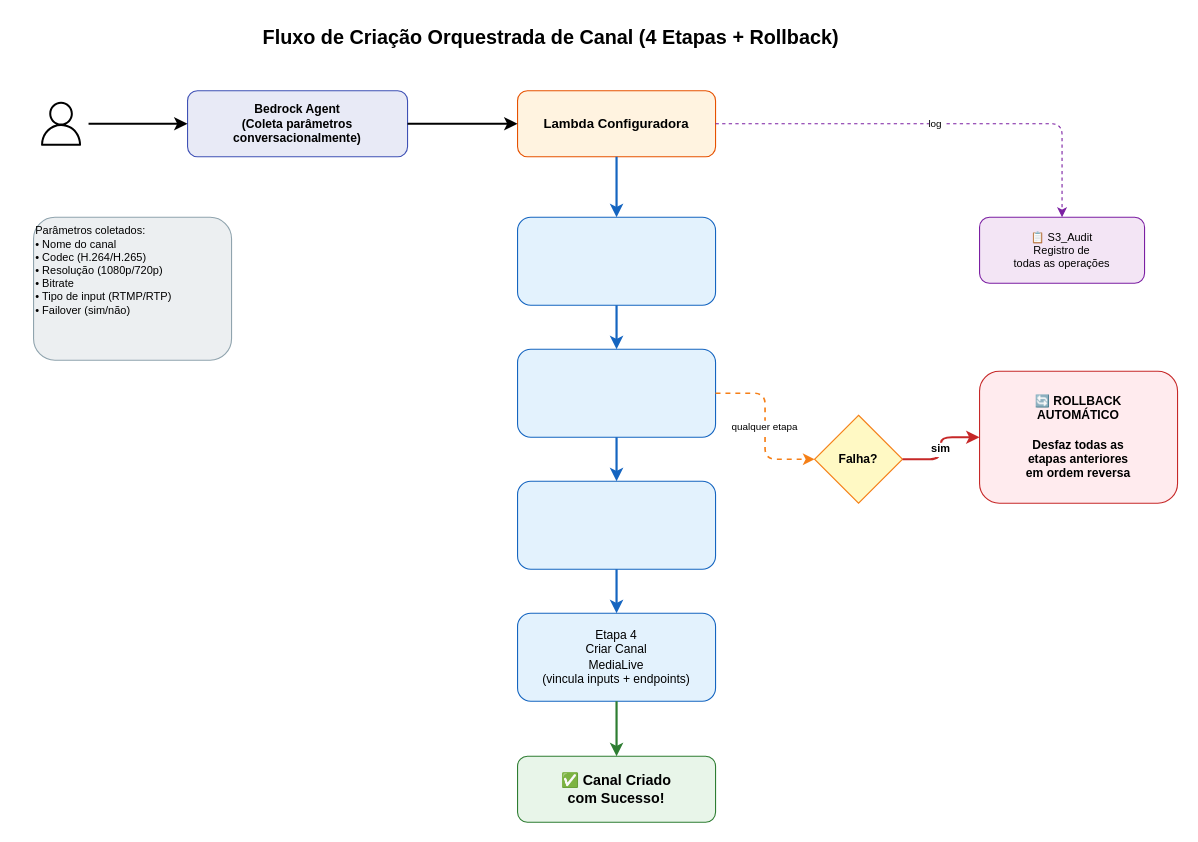
Image size: 1198x842. Some labels were removed from this diagram. The centre of each missing label's shape, as x and y in pixels:
Etapa 1 Criar Canal MediaPackage V2 (Channel Group + Channel): point (616, 260)
Etapa 2 Criar Endpoints HLS / DASH no MediaPackage V2: point (616, 392)
Etapa 3 Criar Inputs MediaLive (RTMP/RTP + Failover): point (616, 524)
Operador NOC "Criar canal X": point (60, 123)
